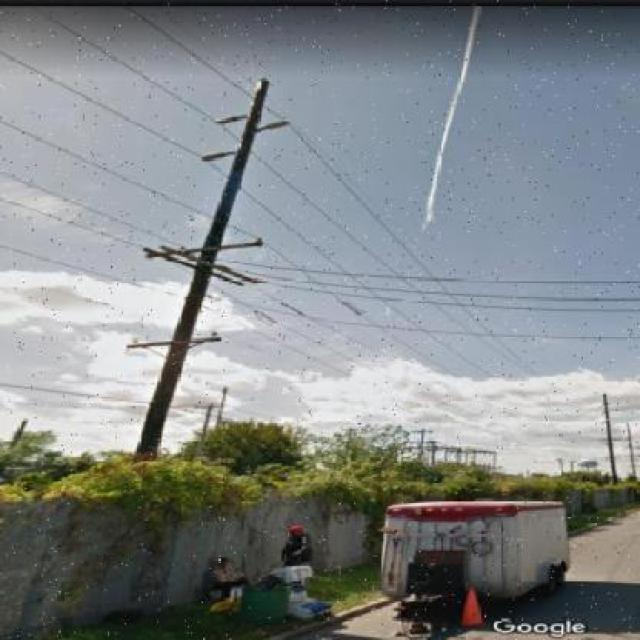pole: (119, 20, 308, 466)
